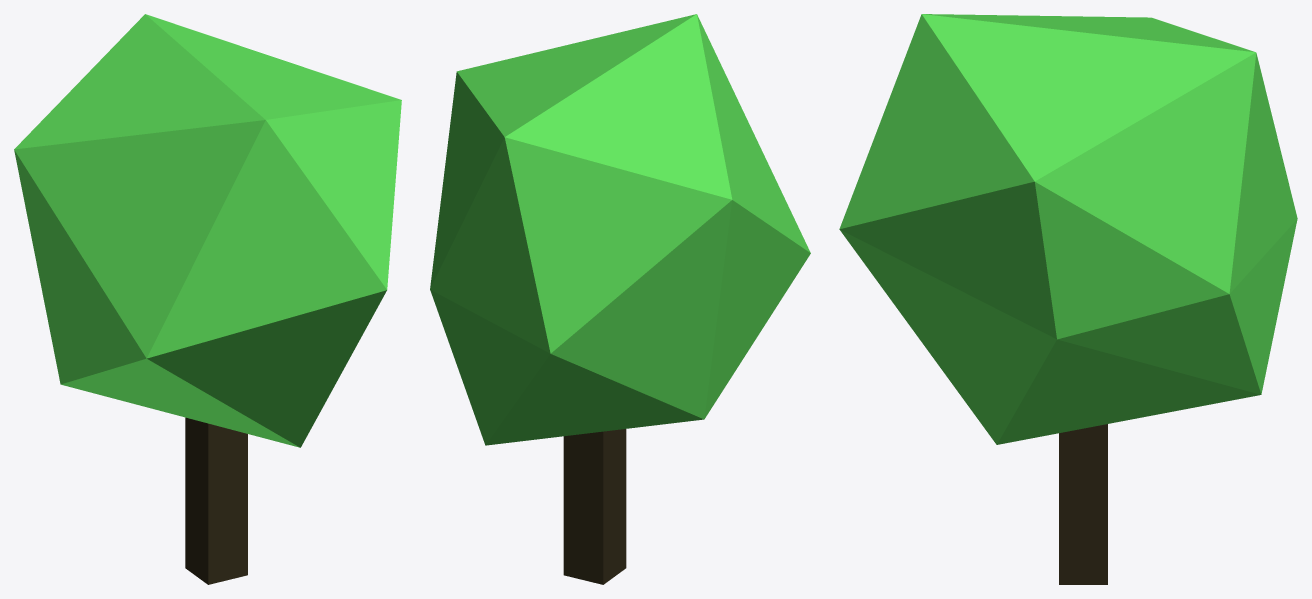
The model's file is tree1.fbx.
3 renders of one model, left to right at view 1: azimuth 30°, elevation 25°; view 2: azimuth 150°, elevation 25°; view 3: azimuth 270°, elevation 25°, orthographic. The views are drawn at different scales.
Parts seen in each view (by area): view 1: Icosphere, Cube.002; view 2: Icosphere, Cube.002; view 3: Icosphere, Cube.002.
Part boxes in pixels (bbox=[...]): Icosphere: bbox=[14, 14, 401, 447]; Cube.002: bbox=[185, 417, 247, 584]; Icosphere: bbox=[430, 14, 810, 445]; Cube.002: bbox=[563, 429, 626, 584]; Icosphere: bbox=[839, 14, 1297, 444]; Cube.002: bbox=[1059, 424, 1107, 584].
Size of the model in its own units: 566 by 834 by 634.
